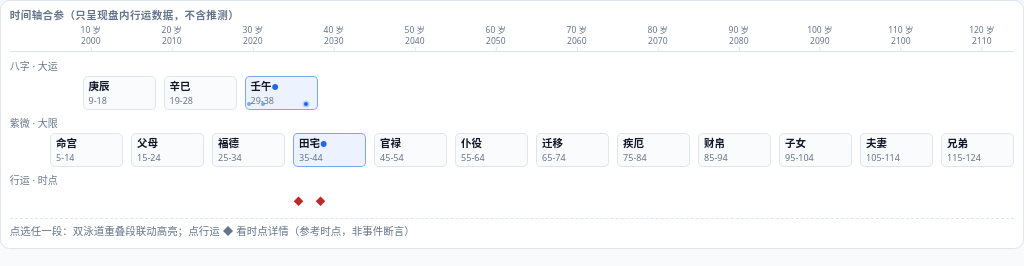
Test: Almanac 时间轴合参 › M63-F 节点交互：点 ◆ → 中选 + 详情行；点段 → 互斥清节点
The image size is (1024, 266).
Click the 1st button "◆" at (298, 201), box [288,191,308,211]
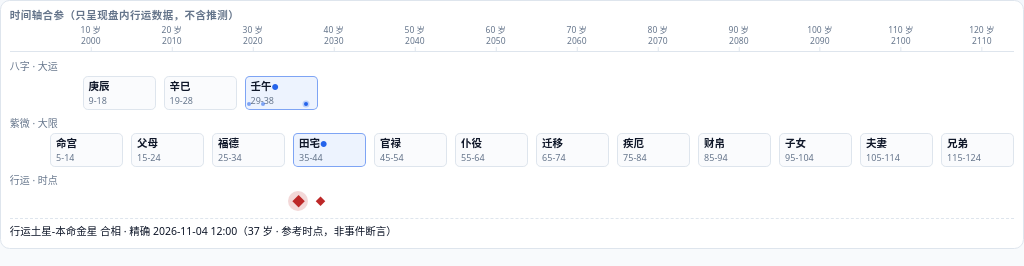
Expected: the message "行运土星-本命金星 合相 · 精确 2026-11-04 12:00（37 岁 · 参考时点，非事件断言）" is shown, [10,218,1014,240]
Note: 点当前大运段 → 节点取消、详情切段选
Click the button with class "is-current" showing "壬午● 29-38" at (281, 93), box [245,76,318,110]
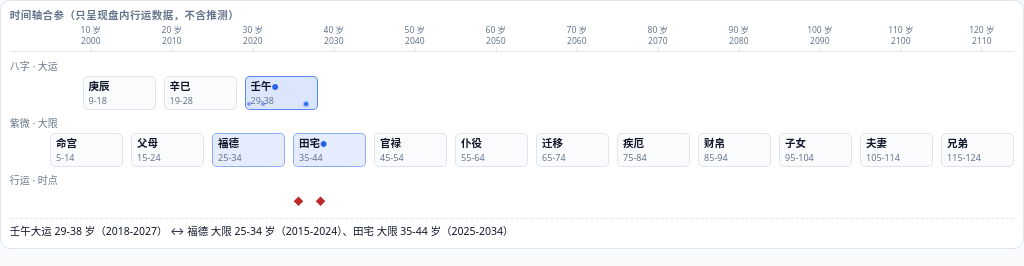
Expected: the message "壬午大运 29-38 岁（2018-2027） ↔ 福德 大限 25-34 岁（2015-2024）、田宅 大限 35-44 岁（2025-2034）" is shown, [10,218,1014,240]
Note: 再点节点 → 段选清、详情切节点
Click the 1st button "◆" at (298, 201), box [288,191,308,211]
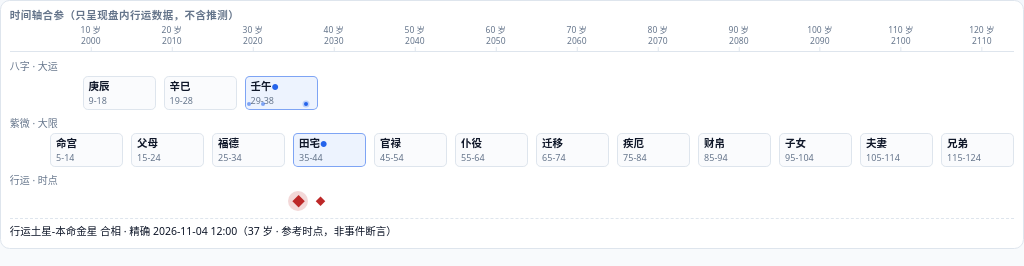
Expected: the message "行运土星-本命金星 合相 · 精确 2026-11-04 12:00（37 岁 · 参考时点，非事件断言）" is shown, [10,218,1014,240]
